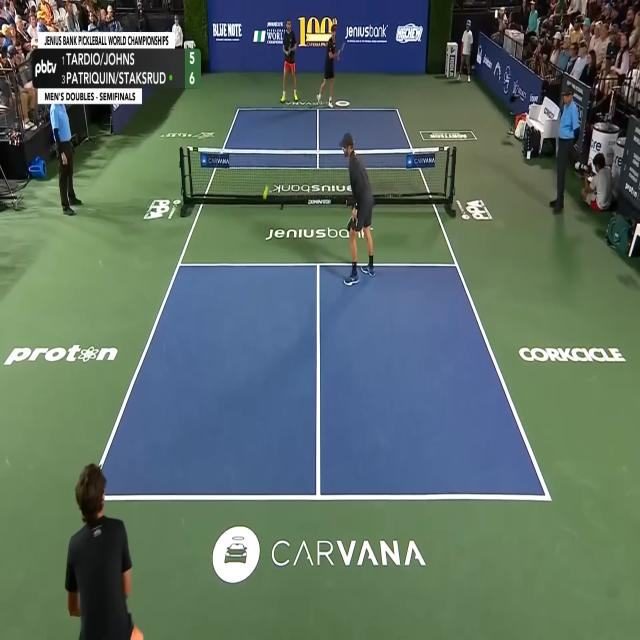ball: (262, 190, 267, 199)
